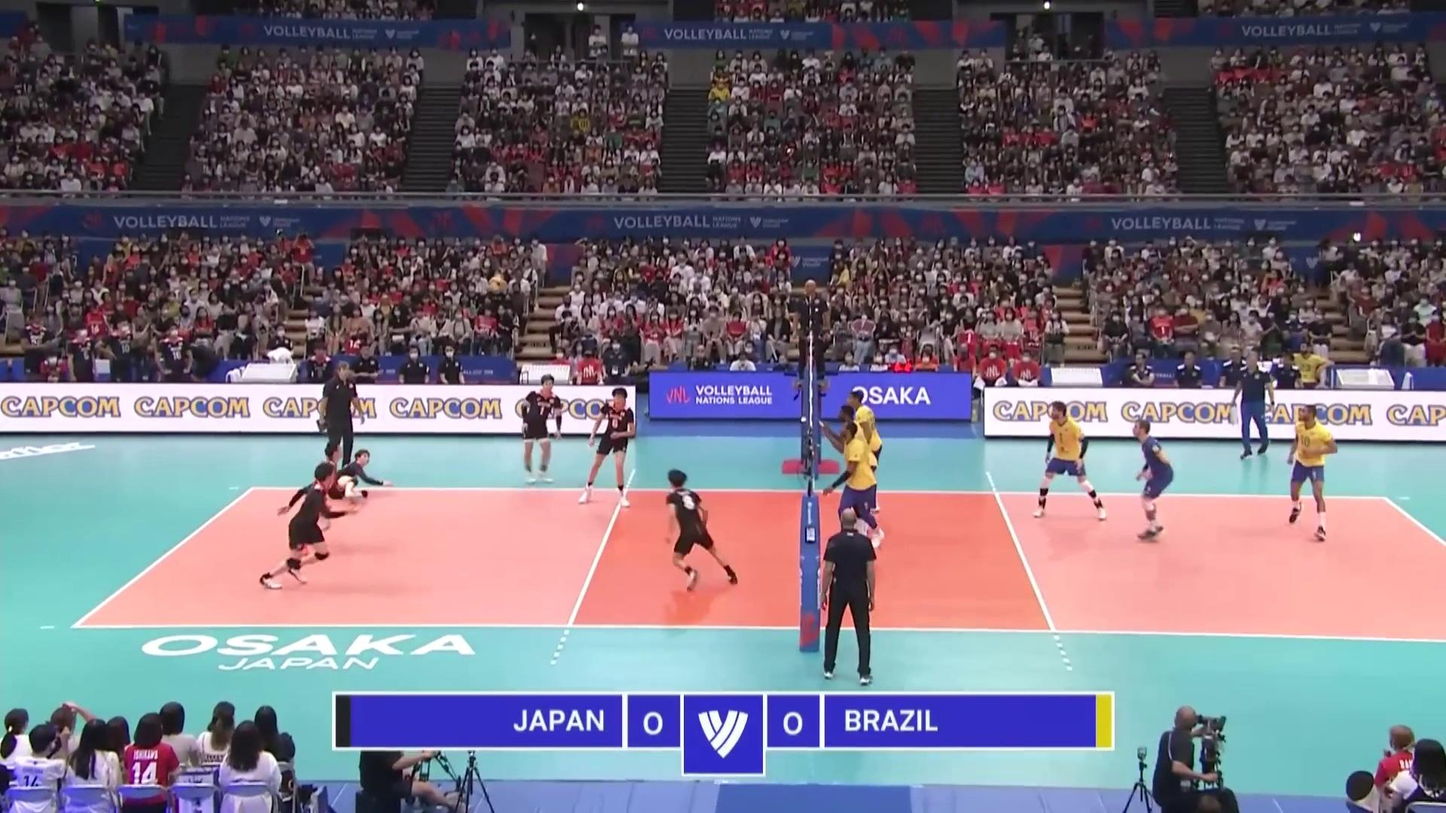player: (261, 464, 345, 590), (661, 469, 740, 592), (1034, 399, 1109, 522), (1286, 404, 1335, 539), (834, 424, 884, 554), (583, 387, 635, 507), (831, 406, 877, 538), (1131, 419, 1175, 541), (518, 376, 565, 486), (845, 389, 880, 515), (332, 449, 390, 508)
refree: (817, 510, 873, 681), (795, 280, 829, 391)
